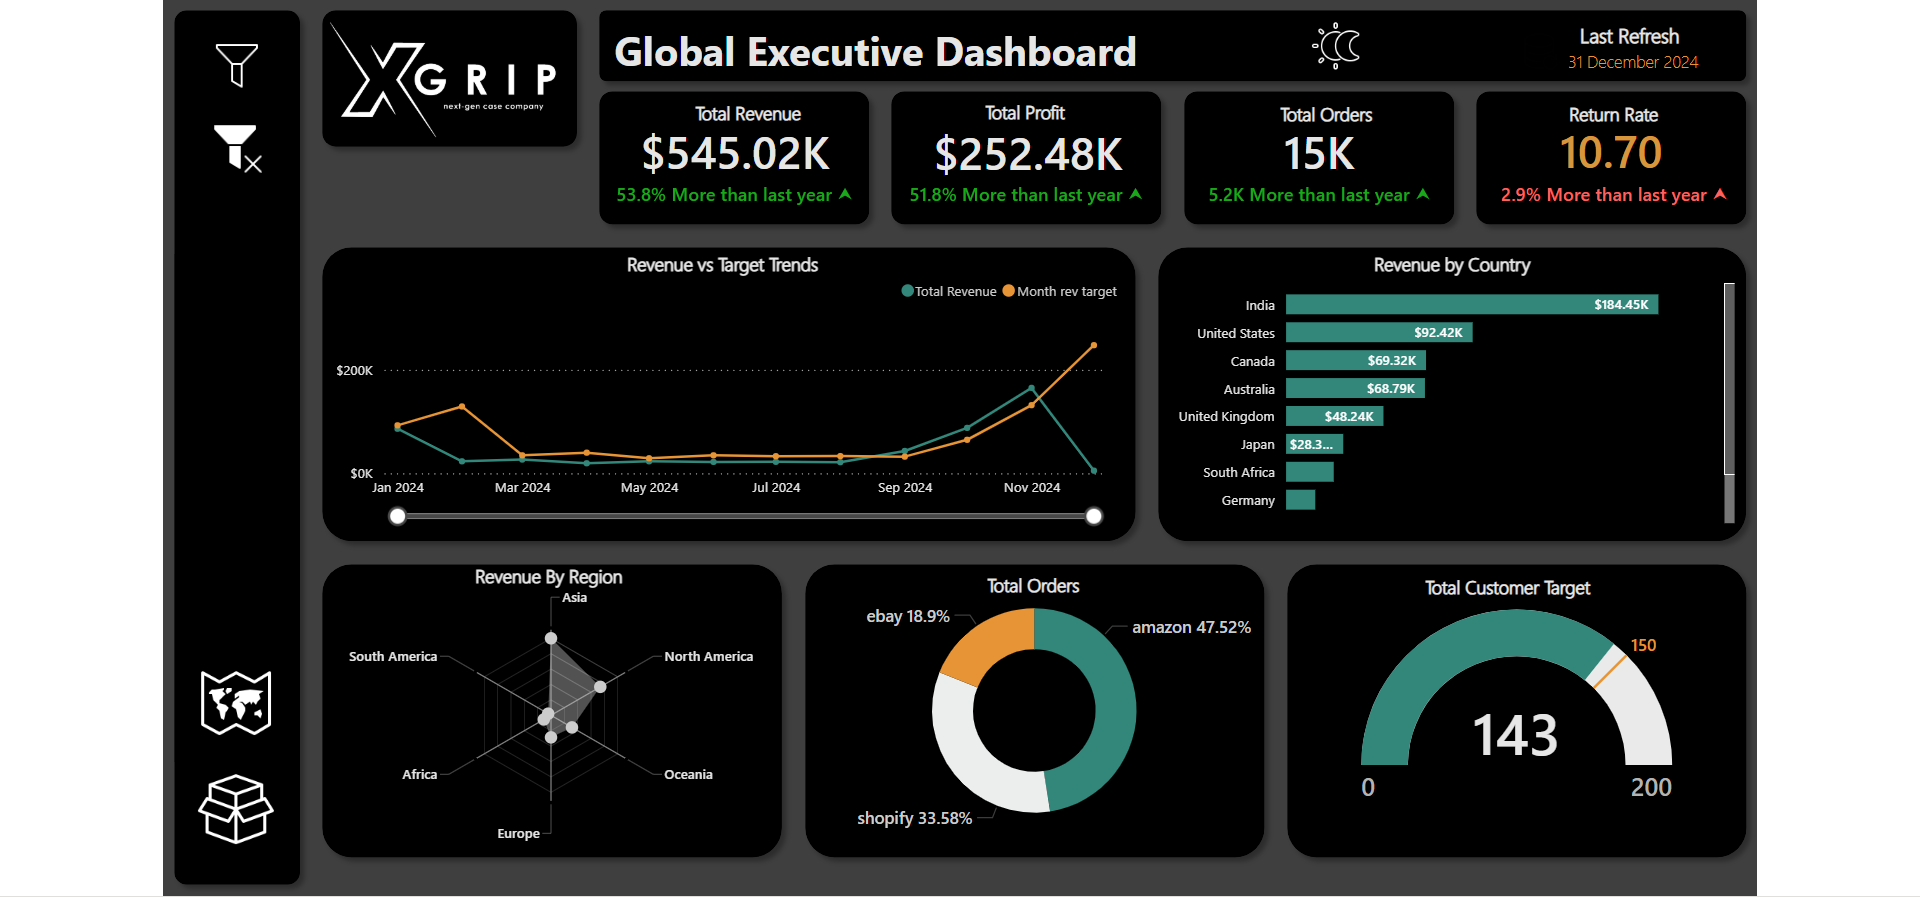

What the dashboard file says about the page in this screenshot:
{"tool":"powerbi","page":{"name":"Executive Dashboard-Dark","canvas":[1280,720],"ordinal":3},"visuals":[{"type":"group","id":"g1","title":"Filter Section","box":[0,0,119,720],"z":0},{"type":"shape","title":"Filter section","box":[0,0,119,720],"z":0,"group":"g1"},{"type":"shape","title":"Logo Shape","box":[118.8,0,222.5,127.5],"z":0,"group":"g15"},{"type":"shape","title":"Heading Shape","box":[341.2,0,938.8,75],"z":0,"group":"g16"},{"type":"image","box":[1085.3,14,39.5,57.5],"z":0,"group":"g9"},{"type":"shape","title":"Total Rev KPI Shape","box":[341.2,65,234.7,125],"z":0,"group":"g14"},{"type":"shape","title":"Total Profit Shape","box":[575.9,65,234.7,125],"z":0,"group":"g10"},{"type":"shape","title":"Total Orders Shape","box":[810.6,65,234.7,125],"z":0,"group":"g5"},{"type":"group","id":"g2","title":"Return Rate KPI","box":[1045.3,65,234.7,125],"z":0,"group":"g13"},{"type":"shape","title":"Return Rate Shape","box":[1045.3,65,234.7,125],"z":0,"group":"g2"},{"type":"shape","title":"Line Chart Shape","box":[118.9,190,671,254],"z":0,"group":"g6"},{"type":"group","id":"g3","title":"Revenue By Country","box":[790,190,490,254],"z":0,"group":"g11"},{"type":"shape","title":"Bar Chart Shape","box":[790,190,490,254],"z":0,"group":"g3"},{"type":"shape","title":"Revenue By Region Shape","box":[118.9,444.4,387,253.3],"z":0,"group":"g12"},{"type":"shape","title":" Total Orders Shape","box":[506.3,444.4,386.7,253.3],"z":0,"group":"g8"},{"type":"group","id":"g4","title":"Total Customers","box":[893.4,444.4,386.7,253.3],"z":0,"group":"g7"},{"type":"shape","title":"Total Customers Shape","box":[893.4,444.4,386.7,253.3],"z":0,"group":"g4"},{"type":"textbox","title":"Text","box":[357.4,13.5,677.8,55.3],"z":1000,"group":"g16"},{"type":"textbox","box":[1112.6,14,129.7,32],"z":1000,"group":"g9"},{"type":"image","title":"Filter Icon","box":[35,25.3,47.7,56.4],"z":1000,"group":"g1"},{"type":"group","id":"g5","title":"Total Orders KPI","box":[810.6,65,234.7,125],"z":1000,"group":"g13"},{"type":"textbox","title":"Heading","box":[417.9,76.6,103,33],"z":1000,"group":"g14"},{"type":"image","box":[624.7,76.7,30.4,35],"z":1000,"group":"g10"},{"type":"image","box":[862.7,76.7,30.4,35],"z":1000,"group":"g5"},{"type":"image","box":[1095,76.7,29.3,35],"z":1000,"group":"g2"},{"type":"group","id":"g6","title":"Revenue vs Target","box":[118.9,190,671,254],"z":1000,"group":"g11"},{"type":"lineChart","fields":{"Y":["measure.Total Revenue","measure.Month rev target"],"Category":["date table.Year Hierarchy.Year","date table.Year Hierarchy.Quarter","date table.Year Hierarchy.Month Start Date"]},"box":[133,214.7,642,210.6],"z":1000,"group":"g6"},{"type":"barChart","fields":{"Category":["country.country"],"Y":["measure.Total Revenue"]},"box":[803.7,214.7,462.9,210.6],"z":1000,"group":"g3"},{"type":"group","id":"g7","title":"Bottom Charts","box":[117.4,444.4,1162.6,253.3],"z":1000},{"type":"group","id":"g8","title":"Total Orders","box":[506.3,444.4,386.7,253.3],"z":1000,"group":"g7"},{"type":"donutChart","title":"Total Orders Chart","fields":{"Y":["measure.Total Orders"],"Category":["marketplace.platform_name"]},"box":[519.2,456.5,360,228.7],"z":1000,"group":"g8"},{"type":"RadarChart1446119667547","title":"Total Rev by region Chart","fields":{"Category":["country.region"],"Y":["measure.Total Revenue"]},"box":[117.4,464.4,388.9,220.8],"z":1000,"group":"g12"},{"type":"gauge","fields":{"Y":["measure.Total Customers"]},"box":[956.8,469.4,259.6,202.9],"z":1000,"group":"g4"},{"type":"image","title":"White Logo","box":[122,0,214,130],"z":2000,"group":"g15"},{"type":"group","id":"g9","title":"Last Refresh","box":[1085.3,14,187.9,58],"z":2000,"group":"g16"},{"type":"card","fields":{"Values":["measure.Last Refresh"]},"box":[1091.6,35,181.6,37],"z":2000,"group":"g9"},{"type":"group","id":"g10","title":"Total Profit KPI","box":[575.9,65,234.7,125],"z":2000,"group":"g13"},{"type":"image","box":[387.1,74.9,31.1,35],"z":2000,"group":"g14"},{"type":"textbox","box":[655.2,75.6,99.2,33.8],"z":2000,"group":"g10"},{"type":"textbox","box":[892,76.7,99.2,35],"z":2000,"group":"g5"},{"type":"textbox","box":[1124,76.7,99.2,35],"z":2000,"group":"g2"},{"type":"group","id":"g11","title":"Middle Charts","box":[118.9,190,1161.1,254],"z":2000},{"type":"textbox","title":"Line Chart Heading","box":[367.5,196.8,171.6,33.9],"z":2000,"group":"g6"},{"type":"textbox","title":"Rev By Country Heading","box":[967.8,196.8,144.5,33.9],"z":2000,"group":"g3"},{"type":"group","id":"g12","title":"Revenue By Region","box":[117.4,444.4,388.9,253.3],"z":2000,"group":"g7"},{"type":"textbox","title":"Revenue By Region Heading","box":[246,448,137.7,33.9],"z":2000,"group":"g12"},{"type":"textbox","title":"Total Orders Heading","box":[656.5,454.7,88.2,33.9],"z":2000,"group":"g8"},{"type":"textbox","title":"Total Customer Heading","box":[1008.6,456.7,166.8,32],"z":2000,"group":"g4"},{"type":"image","title":"Map icon","box":[15.6,529.5,86.6,71],"z":2000,"group":"g1"},{"type":"image","title":"Dark Mode toggle","box":[914.2,13.3,53.1,48],"z":3000,"group":"g16"},{"type":"group","id":"g13","title":"KPIs","box":[341.2,65,938.8,125],"z":3000},{"type":"group","id":"g14","title":"Total Revenue KPI","box":[341.2,65,234.7,125],"z":3000,"group":"g13"},{"type":"image","title":"Clear Filter Icon","box":[36,92,48.3,56.4],"z":3000,"group":"g1"},{"type":"card","title":"Total Rev Diff","fields":{"Values":["measure.Revenue Growth"]},"box":[352,144.2,214.7,28.4],"z":3000,"group":"g14"},{"type":"card","title":"Total Profit Diff","fields":{"Values":["measure.Profit Growth"]},"box":[586.3,144.2,214.7,28.4],"z":3000,"group":"g10"},{"type":"card","title":"Total Orders Diff","fields":{"Values":["measure.Orders Growth"]},"box":[821,144.2,214.7,28.4],"z":3000,"group":"g5"},{"type":"card","title":"Return Rate Diff","fields":{"Values":["measure.Return Growth"]},"box":[1058,144.5,214.3,28.1],"z":3000,"group":"g2"},{"type":"group","id":"g15","title":"Logo","box":[118.8,0,228.8,130.4],"z":4000},{"type":"card","title":"Total Rev Value","fields":{"Values":["measure.Total Revenue"]},"box":[367.3,89,182.9,67.1],"z":4000,"group":"g14"},{"type":"card","title":"Total Profit Value","fields":{"Values":["measure.Total Profit"]},"box":[602.9,90.1,182.7,66.5],"z":4000,"group":"g10"},{"type":"card","title":"Total Orders Value","fields":{"Values":["measure.Total Orders"]},"box":[837.4,90.1,181.6,65.4],"z":4000,"group":"g5"},{"type":"card","title":"Return Rate Value","fields":{"Values":["measure.Return Rate"]},"box":[1072,90.1,181.6,64.3],"z":4000,"group":"g2"},{"type":"image","title":"Product icon","box":[15.8,614.6,85.7,71],"z":4000,"group":"g1"},{"type":"group","id":"g16","title":"Heading","box":[341.2,0,938.8,75],"z":5000}]}

Visuals, with their boxes on the page's 1280x720 design canvas (x1, y1, x2, y2). These are canvas units, not pixel positions in the 1920x897 screenshot, which may show the page scaled, cropped or inside an application window:
"Filter Section" group: region(0, 0, 119, 720)
"Filter section" shape: region(0, 0, 119, 720)
"Logo Shape" shape: region(119, 0, 341, 128)
"Heading Shape" shape: region(341, 0, 1280, 75)
image: region(1085, 14, 1125, 72)
"Total Rev KPI Shape" shape: region(341, 65, 576, 190)
"Total Profit Shape" shape: region(576, 65, 811, 190)
"Total Orders Shape" shape: region(811, 65, 1045, 190)
"Return Rate KPI" group: region(1045, 65, 1280, 190)
"Return Rate Shape" shape: region(1045, 65, 1280, 190)
"Line Chart Shape" shape: region(119, 190, 790, 444)
"Revenue By Country" group: region(790, 190, 1280, 444)
"Bar Chart Shape" shape: region(790, 190, 1280, 444)
"Revenue By Region Shape" shape: region(119, 444, 506, 698)
" Total Orders Shape" shape: region(506, 444, 893, 698)
"Total Customers" group: region(893, 444, 1280, 698)
"Total Customers Shape" shape: region(893, 444, 1280, 698)
"Text" textbox: region(357, 14, 1035, 69)
textbox: region(1113, 14, 1242, 46)
"Filter Icon" image: region(35, 25, 83, 82)
"Total Orders KPI" group: region(811, 65, 1045, 190)
"Heading" textbox: region(418, 77, 521, 110)
image: region(625, 77, 655, 112)
image: region(863, 77, 893, 112)
image: region(1095, 77, 1124, 112)
"Revenue vs Target" group: region(119, 190, 790, 444)
lineChart - measure.Total Revenue x measure.Month rev target: region(133, 215, 775, 425)
barChart - country.country x measure.Total Revenue: region(804, 215, 1267, 425)
"Bottom Charts" group: region(117, 444, 1280, 698)
"Total Orders" group: region(506, 444, 893, 698)
"Total Orders Chart" donutChart: region(519, 456, 879, 685)
"Total Rev by region Chart" RadarChart1446119667547: region(117, 464, 506, 685)
gauge - measure.Total Customers: region(957, 469, 1216, 672)
"White Logo" image: region(122, 0, 336, 130)
"Last Refresh" group: region(1085, 14, 1273, 72)
card - measure.Last Refresh: region(1092, 35, 1273, 72)
"Total Profit KPI" group: region(576, 65, 811, 190)
image: region(387, 75, 418, 110)
textbox: region(655, 76, 754, 109)
textbox: region(892, 77, 991, 112)
textbox: region(1124, 77, 1223, 112)
"Middle Charts" group: region(119, 190, 1280, 444)
"Line Chart Heading" textbox: region(368, 197, 539, 231)
"Rev By Country Heading" textbox: region(968, 197, 1112, 231)
"Revenue By Region" group: region(117, 444, 506, 698)
"Revenue By Region Heading" textbox: region(246, 448, 384, 482)
"Total Orders Heading" textbox: region(656, 455, 745, 489)
"Total Customer Heading" textbox: region(1009, 457, 1175, 489)
"Map icon" image: region(16, 530, 102, 600)
"Dark Mode toggle" image: region(914, 13, 967, 61)
"KPIs" group: region(341, 65, 1280, 190)
"Total Revenue KPI" group: region(341, 65, 576, 190)
"Clear Filter Icon" image: region(36, 92, 84, 148)
"Total Rev Diff" card: region(352, 144, 567, 173)
"Total Profit Diff" card: region(586, 144, 801, 173)
"Total Orders Diff" card: region(821, 144, 1036, 173)
"Return Rate Diff" card: region(1058, 144, 1272, 173)
"Logo" group: region(119, 0, 348, 130)
"Total Rev Value" card: region(367, 89, 550, 156)
"Total Profit Value" card: region(603, 90, 786, 157)
"Total Orders Value" card: region(837, 90, 1019, 156)
"Return Rate Value" card: region(1072, 90, 1254, 154)
"Product icon" image: region(16, 615, 102, 686)
"Heading" group: region(341, 0, 1280, 75)
